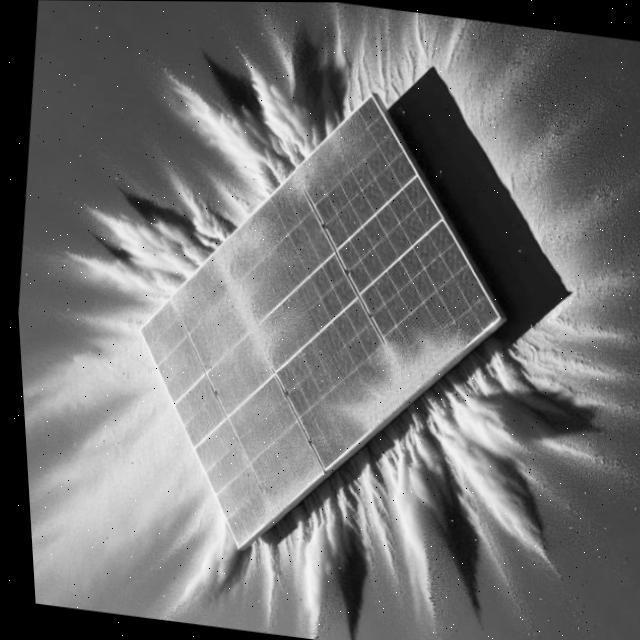Anomaly Solar Panel: (65, 94, 533, 546)
Surface Contaminant: (105, 196, 392, 547), (294, 294, 460, 448), (271, 112, 375, 214)
